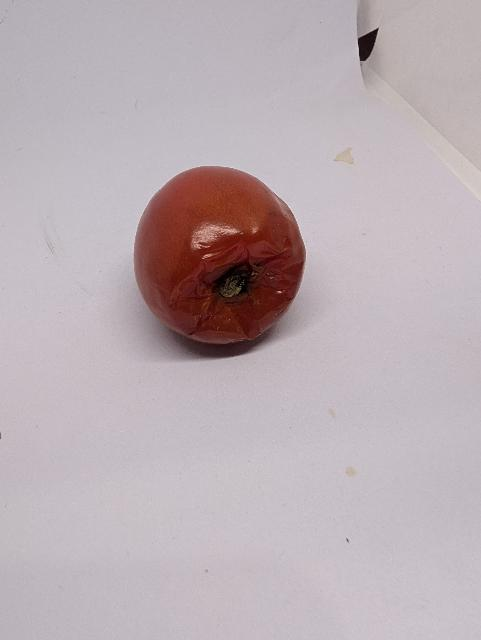defect: (131, 162, 310, 347)
